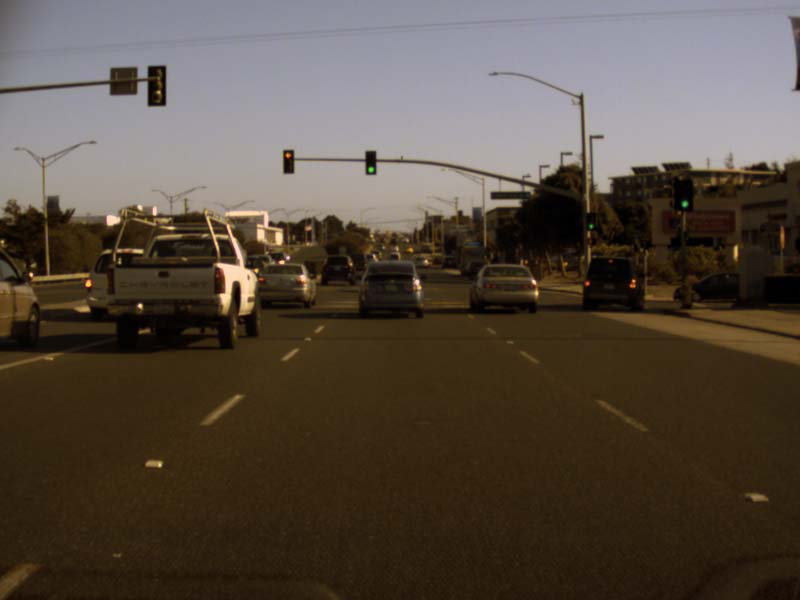Green: (674, 178, 691, 211), (365, 150, 375, 174), (586, 212, 595, 229)
Red: (283, 150, 293, 172)
